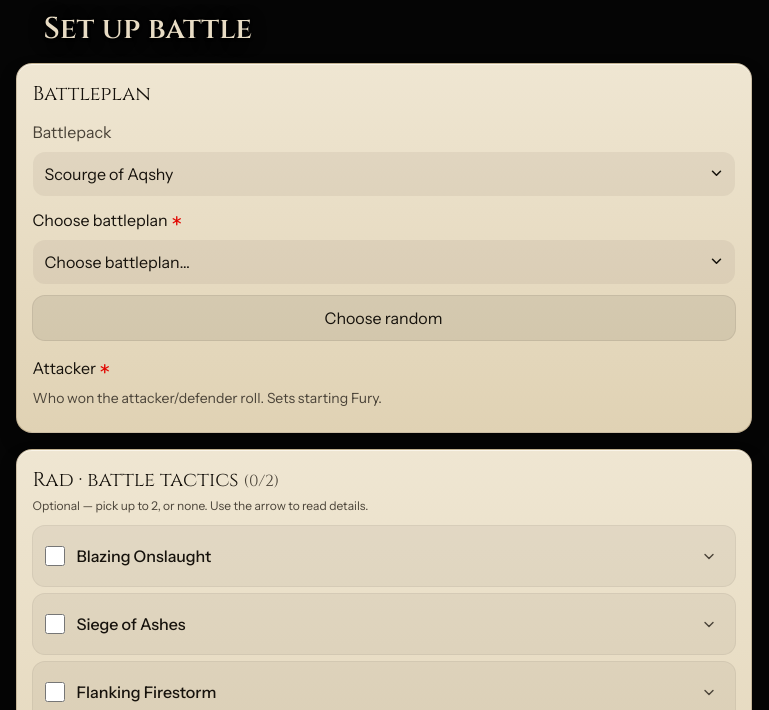
Scenario: BattleRecordSetupScreen › collapses tactic detail text until Show details is pressed
Expected: the text "Master of Arms" is not shown
Click the button named "Show Blazing Onslaught details" at (708, 556), box [694,542,722,570]
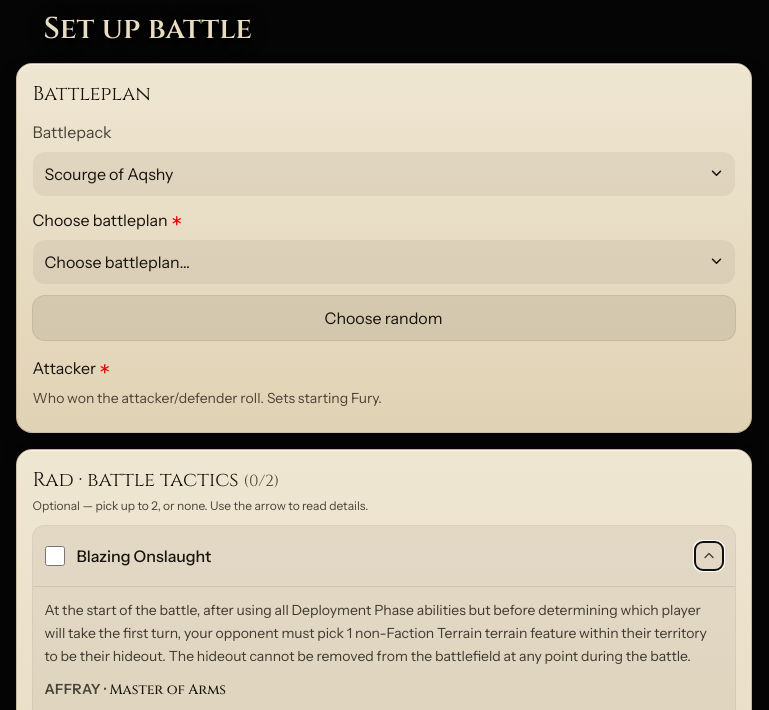
Expected: the text "At the start of the battle, after using all Deployment Phase abilities but before determining which player will take the" is shown, [44,601,707,664]
Expected: the text "Master of Arms" is shown, [110,680,226,699]
Expected: the button named "Hide Blazing Onslaught details" is expanded
Click the button named "Hide Blazing Onslaught details" at (708, 556), box [694,542,722,570]
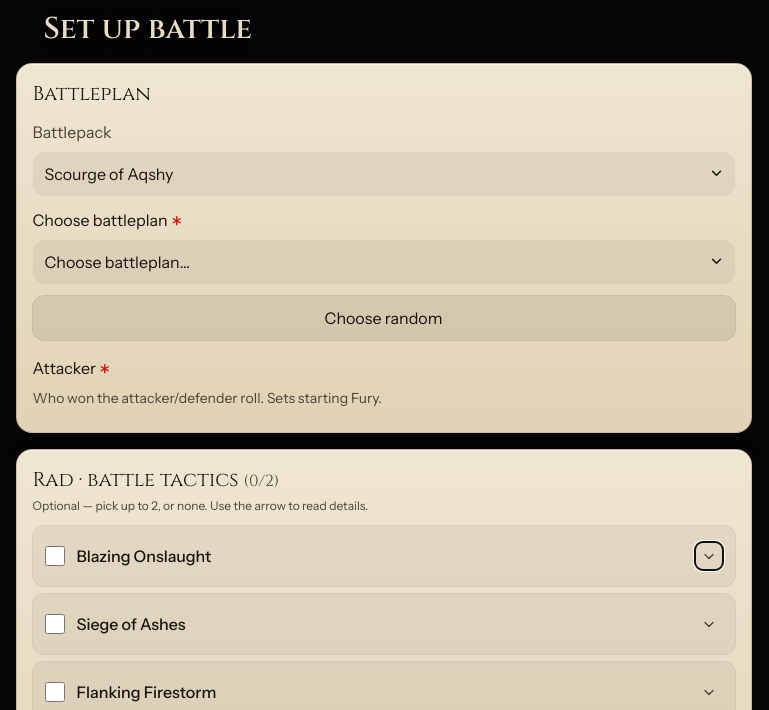
Expected: the text "At the start of the battle, after using all Deployment Phase abilities but before determining which player will take the" is gone
